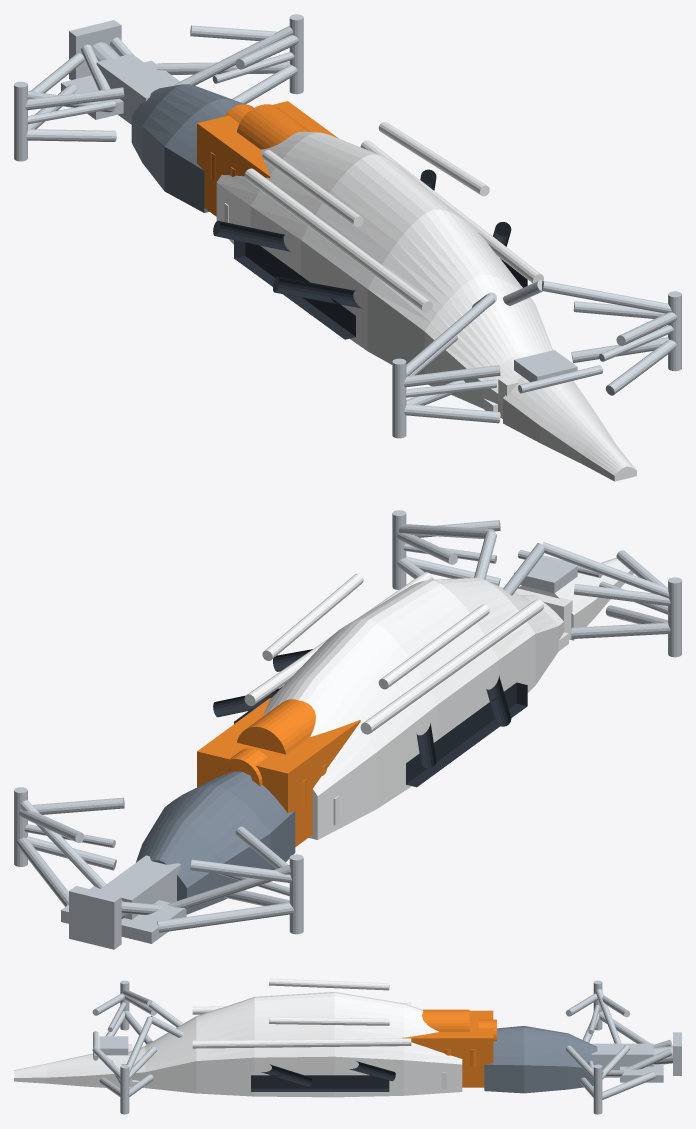
File: W11_2020_CHASSIS_ONLY.glb
3 views of the same model, one above another, from view 1: azimuth 30°, elevation 25°; view 2: azimuth 150°, elevation 25°; view 3: azimuth 270°, elevation 25° (orthographic). The views are drawn at different scales.
Parts seen in each view (by area): view 1: Carbon honeycomb survival cell, Front pushrod suspension and DAS study, Rear swept pullrod suspension, Rear transaxle gearbox, Front impact structure, V6 turbo hybrid power unit study, Side impact structures, Rear impact structure; view 2: Carbon honeycomb survival cell, Rear swept pullrod suspension, Front pushrod suspension and DAS study, Rear transaxle gearbox, V6 turbo hybrid power unit study, Side impact structures, Rear impact structure, Front impact structure; view 3: Carbon honeycomb survival cell, Rear transaxle gearbox, Front pushrod suspension and DAS study, Rear swept pullrod suspension, V6 turbo hybrid power unit study, Side impact structures, Front impact structure, Rear impact structure.
Part boxes in pixels (x1=…): Carbon honeycomb survival cell: x1=216, y1=121, x2=552, y2=411; Front pushrod suspension and DAS study: x1=392, y1=280, x2=681, y2=438; Rear swept pullrod suspension: x1=14, y1=14, x2=303, y2=161; Rear transaxle gearbox: x1=131, y1=84, x2=244, y2=212; Front impact structure: x1=498, y1=374, x2=636, y2=481; V6 turbo hybrid power unit study: x1=197, y1=101, x2=338, y2=216; Side impact structures: x1=213, y1=169, x2=527, y2=339; Rear impact structure: x1=69, y1=20, x2=174, y2=124; Carbon honeycomb survival cell: x1=244, y1=572, x2=568, y2=839; Rear swept pullrod suspension: x1=14, y1=787, x2=303, y2=943; Front pushrod suspension and DAS study: x1=392, y1=510, x2=681, y2=657; Rear transaxle gearbox: x1=136, y1=771, x2=295, y2=914; V6 turbo hybrid power unit study: x1=197, y1=698, x2=360, y2=846; Side impact structures: x1=213, y1=649, x2=527, y2=787; Rear impact structure: x1=69, y1=855, x2=181, y2=949; Front impact structure: x1=503, y1=558, x2=633, y2=640; Carbon honeycomb survival cell: x1=128, y1=978, x2=462, y2=1097; Rear transaxle gearbox: x1=484, y1=1026, x2=597, y2=1093; Front pushrod suspension and DAS study: x1=92, y1=980, x2=183, y2=1114; Rear swept pullrod suspension: x1=565, y1=980, x2=672, y2=1114; V6 turbo hybrid power unit study: x1=402, y1=1009, x2=496, y2=1087; Side impact structures: x1=251, y1=1061, x2=395, y2=1091; Front impact structure: x1=14, y1=1044, x2=132, y2=1088; Rear impact structure: x1=591, y1=1032, x2=681, y2=1077.
Size of the model in its own units: 0.057 by 0.0258 by 0.1833.
